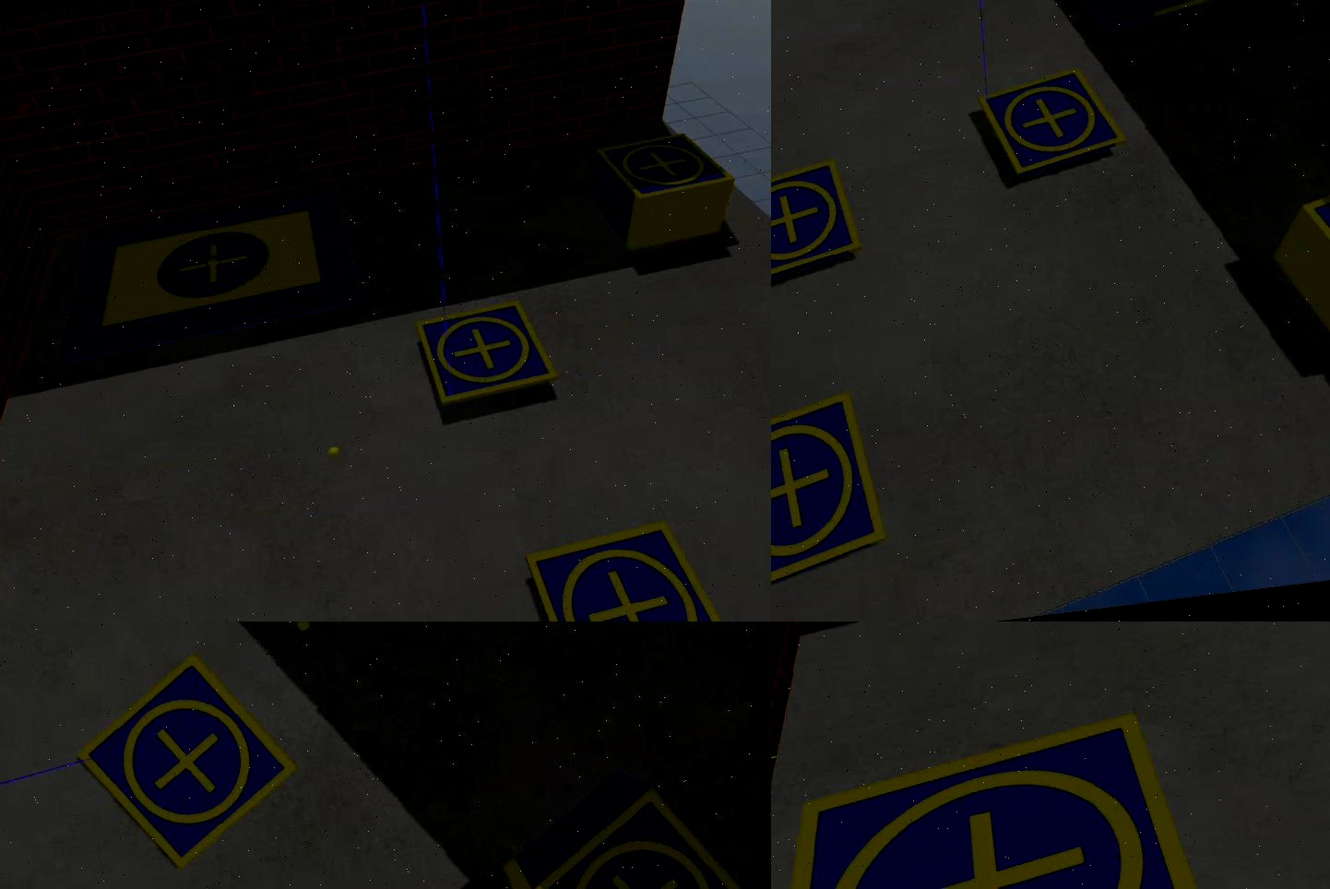large_base: (44, 190, 371, 362), (994, 1, 1293, 44)
small_base: (771, 706, 1249, 889), (68, 642, 307, 883), (510, 772, 771, 889), (771, 389, 897, 604), (526, 512, 739, 622), (980, 67, 1129, 184), (415, 299, 563, 408), (771, 160, 864, 290), (598, 130, 737, 209)
